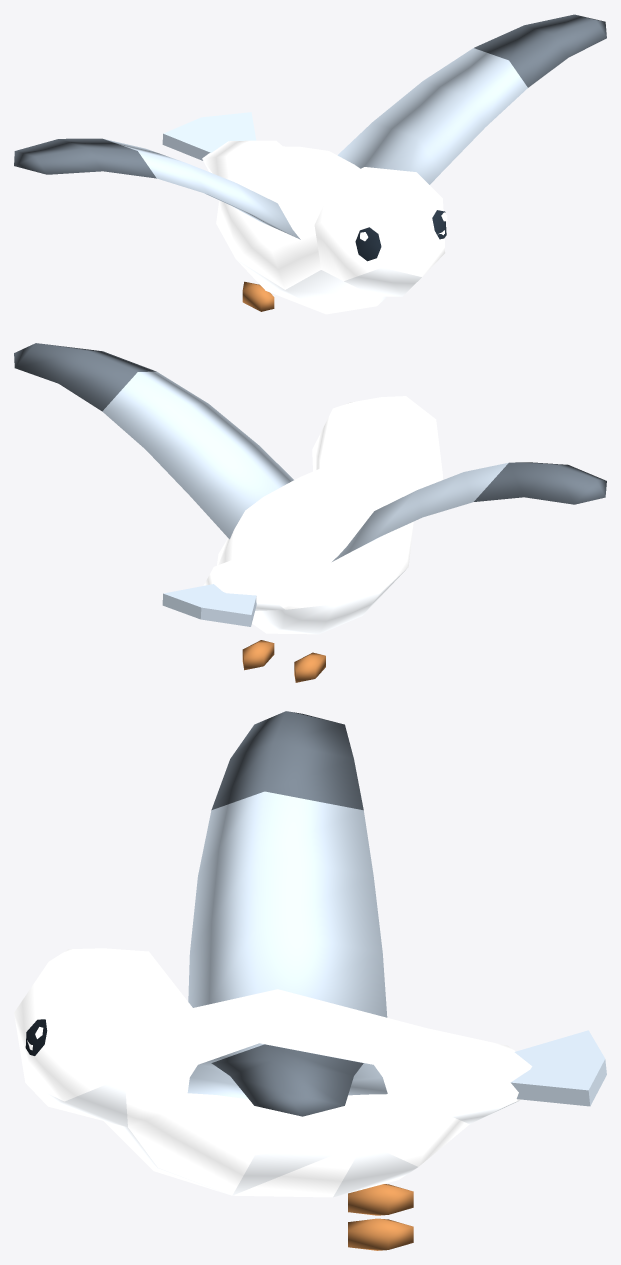
The model's file is seabird.glb.
The picture shows the model from 3 angles, top to bottom: view 1: azimuth 30°, elevation 25°; view 2: azimuth 150°, elevation 25°; view 3: azimuth 270°, elevation 25°; orthographic projection. The views are drawn at different scales.
Parts seen in each view (by area): view 1: seabird; view 2: seabird; view 3: seabird.
Part boxes in pixels (x1,y1,x2,y2): seabird: (14,14,606,314); seabird: (14,343,606,682); seabird: (14,711,606,1250).
Bounding box in the file's own units: 1.64 × 0.63 × 1.02.
